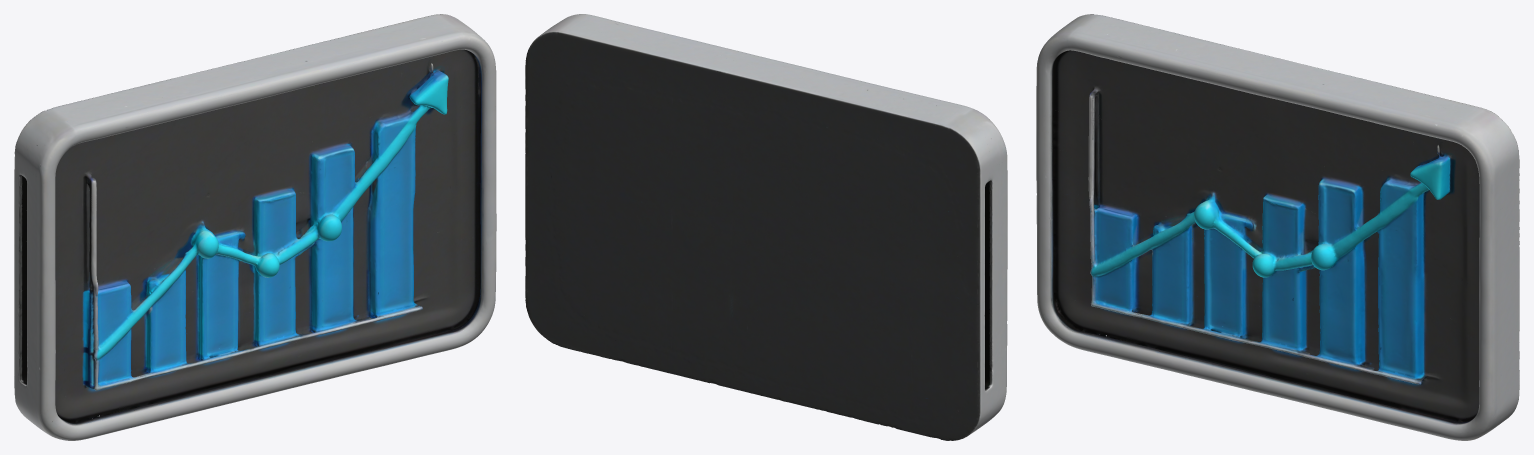
Rendered from Dashboard.glb.
The picture shows the model from 3 angles, left to right: view 1: azimuth 30°, elevation 25°; view 2: azimuth 150°, elevation 25°; view 3: azimuth 330°, elevation 25°; orthographic projection.
Size of the model in its own units: 2 by 1.32 by 0.2619.
Materials: 1 (1 with a texture image).
